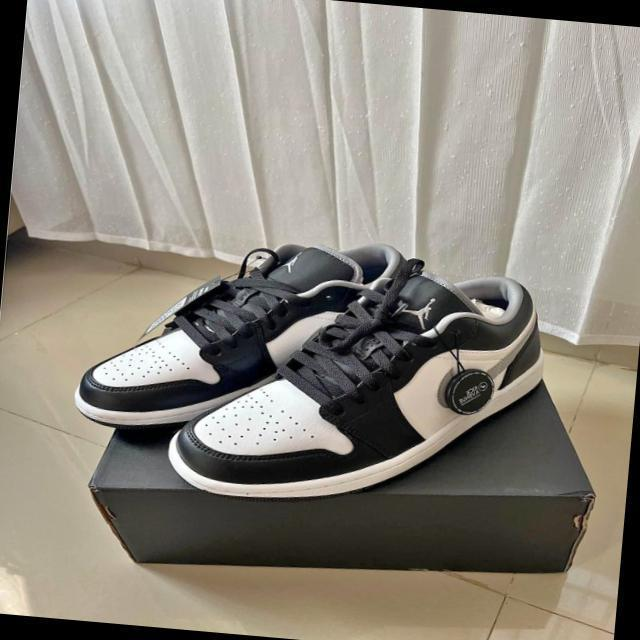nike original jordan 1: (127, 240, 556, 526), (76, 220, 406, 453)
